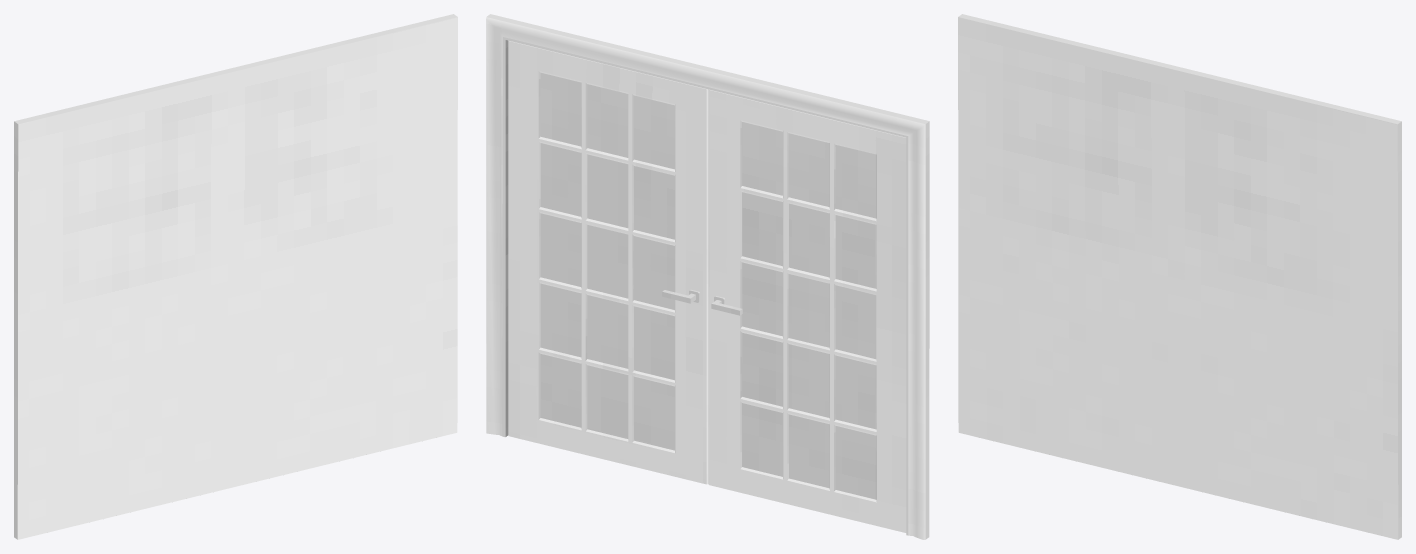
Rendered from DoorFrenchSnapToWall.glb.
3 views of the same model, side by side, from view 1: azimuth 30°, elevation 25°; view 2: azimuth 150°, elevation 25°; view 3: azimuth 330°, elevation 25° (orthographic).
Visible parts, largest first — view 1: DoorFrenchSnapToWall; view 2: DoorFrenchSnapToWall; view 3: DoorFrenchSnapToWall.
Boxes of the visible parts, <box> form: DoorFrenchSnapToWall: <box>14,14,457,539</box>; DoorFrenchSnapToWall: <box>486,14,929,539</box>; DoorFrenchSnapToWall: <box>958,14,1401,539</box>.
Size of the model in its own units: 2.35 by 2.13 by 0.0828.
1 material, 1 textured.
